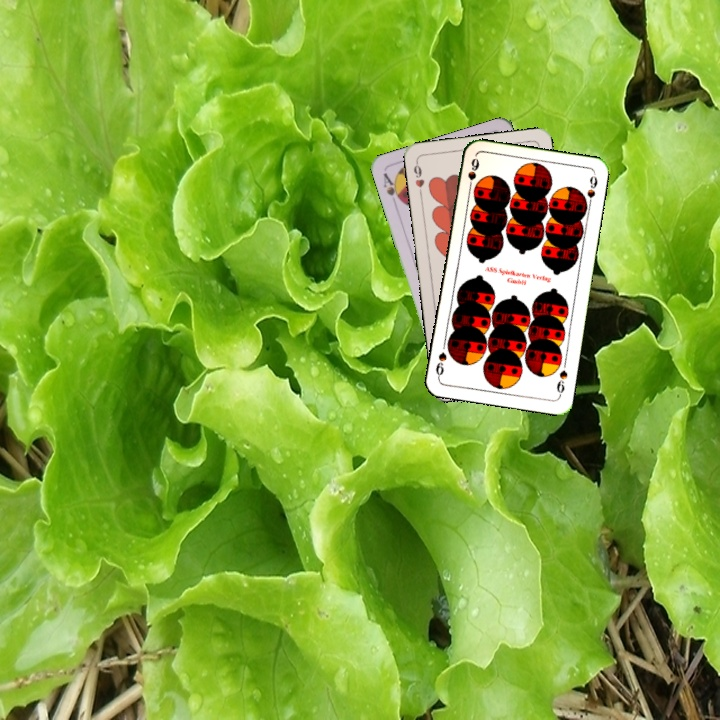H9: (409, 157, 427, 198)
S9: (464, 154, 482, 194), (552, 366, 570, 399)
SA: (379, 168, 405, 208)
